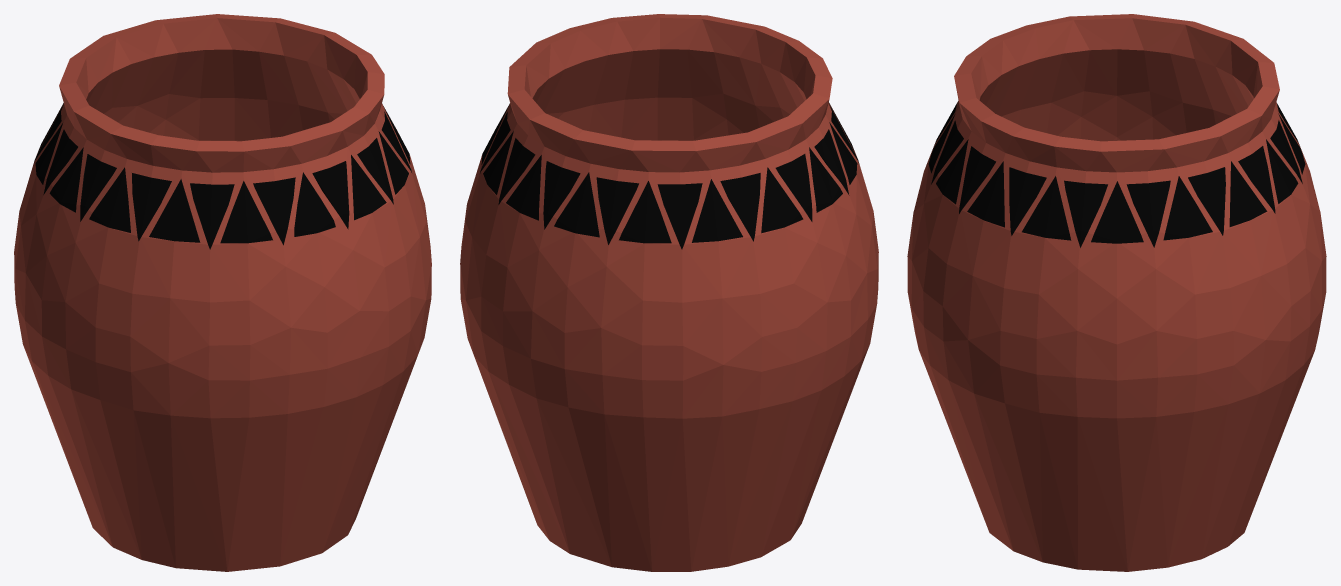
Rendered from Pottery 17_1.fbx.
3 renders of one model, left to right at view 1: azimuth 30°, elevation 25°; view 2: azimuth 150°, elevation 25°; view 3: azimuth 270°, elevation 25°, orthographic.
Parts seen in each view (by area): view 1: Pottery 17_1; view 2: Pottery 17_1; view 3: Pottery 17_1.
Boxes of the visible parts, left/top/right/bottom form: Pottery 17_1: left=14, top=14, right=431, bottom=571; Pottery 17_1: left=460, top=14, right=878, bottom=571; Pottery 17_1: left=907, top=14, right=1326, bottom=571.
Size of the model in its own units: 72.32 by 83.05 by 72.32.
